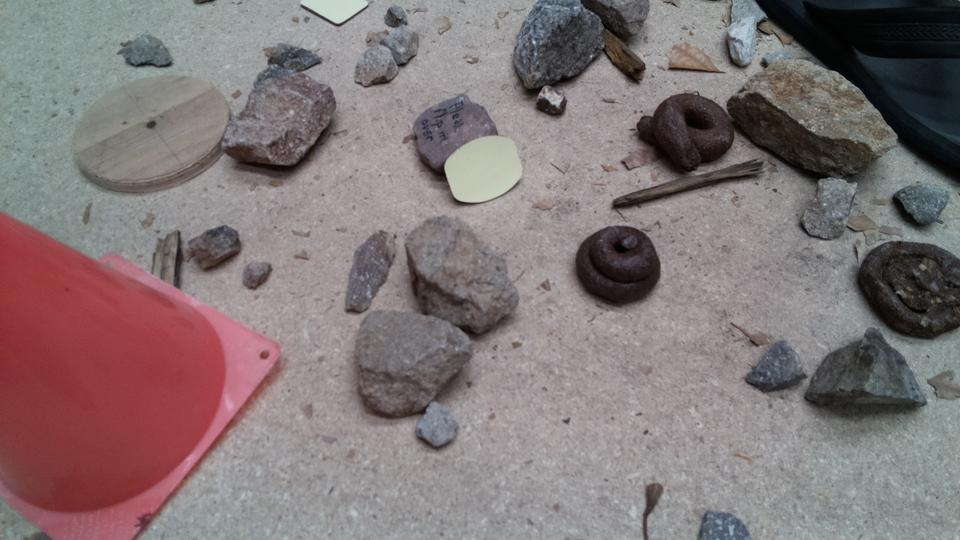poop: (858, 239, 960, 340), (635, 91, 738, 173), (574, 223, 662, 308)
